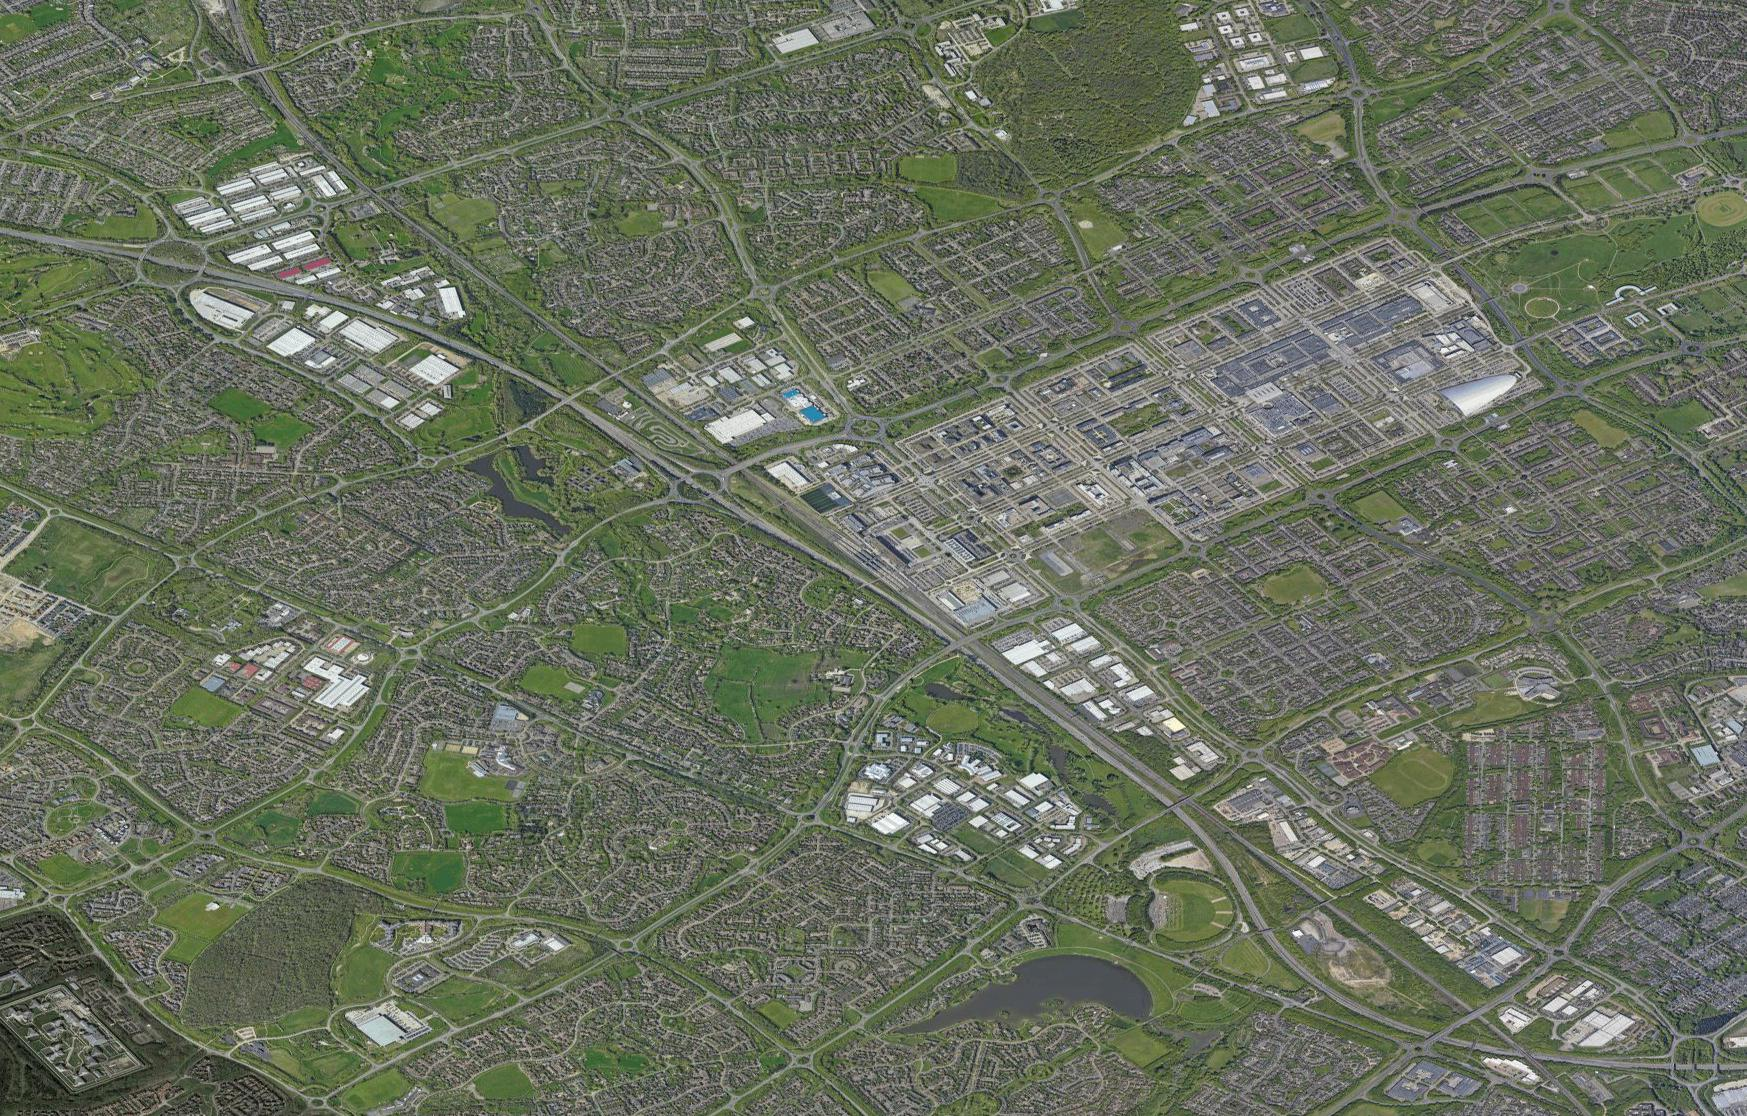industrial: (845, 434, 1047, 613), (851, 733, 1070, 891), (1015, 605, 1213, 769), (197, 285, 439, 414), (181, 152, 363, 283), (656, 311, 823, 446), (222, 623, 377, 749)
motorway: (979, 651, 1123, 755), (1112, 750, 1225, 871), (830, 563, 973, 657), (1221, 857, 1326, 985), (567, 399, 704, 489), (684, 475, 830, 558), (444, 335, 569, 401), (1, 211, 150, 259), (150, 247, 301, 293), (307, 287, 457, 333)
train_station: (840, 530, 904, 589)
